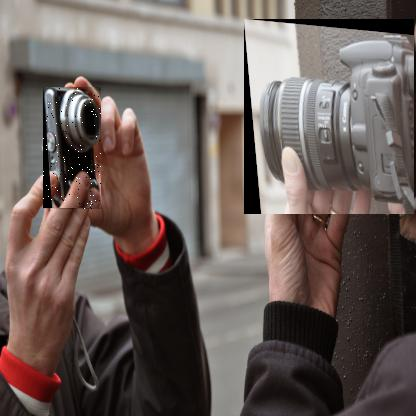Camera: (245, 20, 416, 216), (44, 89, 103, 213)
